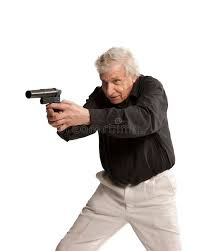gun: (26, 85, 64, 113)
